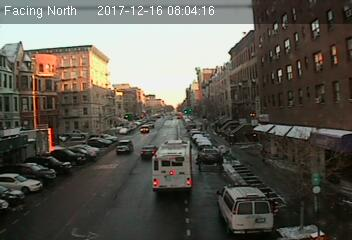bus: (152, 139, 195, 193)
car: (116, 139, 135, 155), (200, 148, 219, 161), (140, 144, 157, 158)
police: (217, 182, 275, 237)
